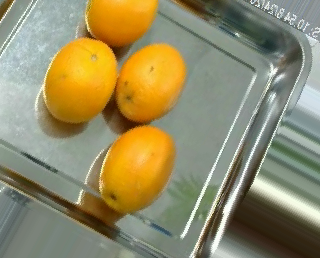Orange: (99, 125, 177, 213), (43, 37, 117, 123), (115, 41, 186, 122)
